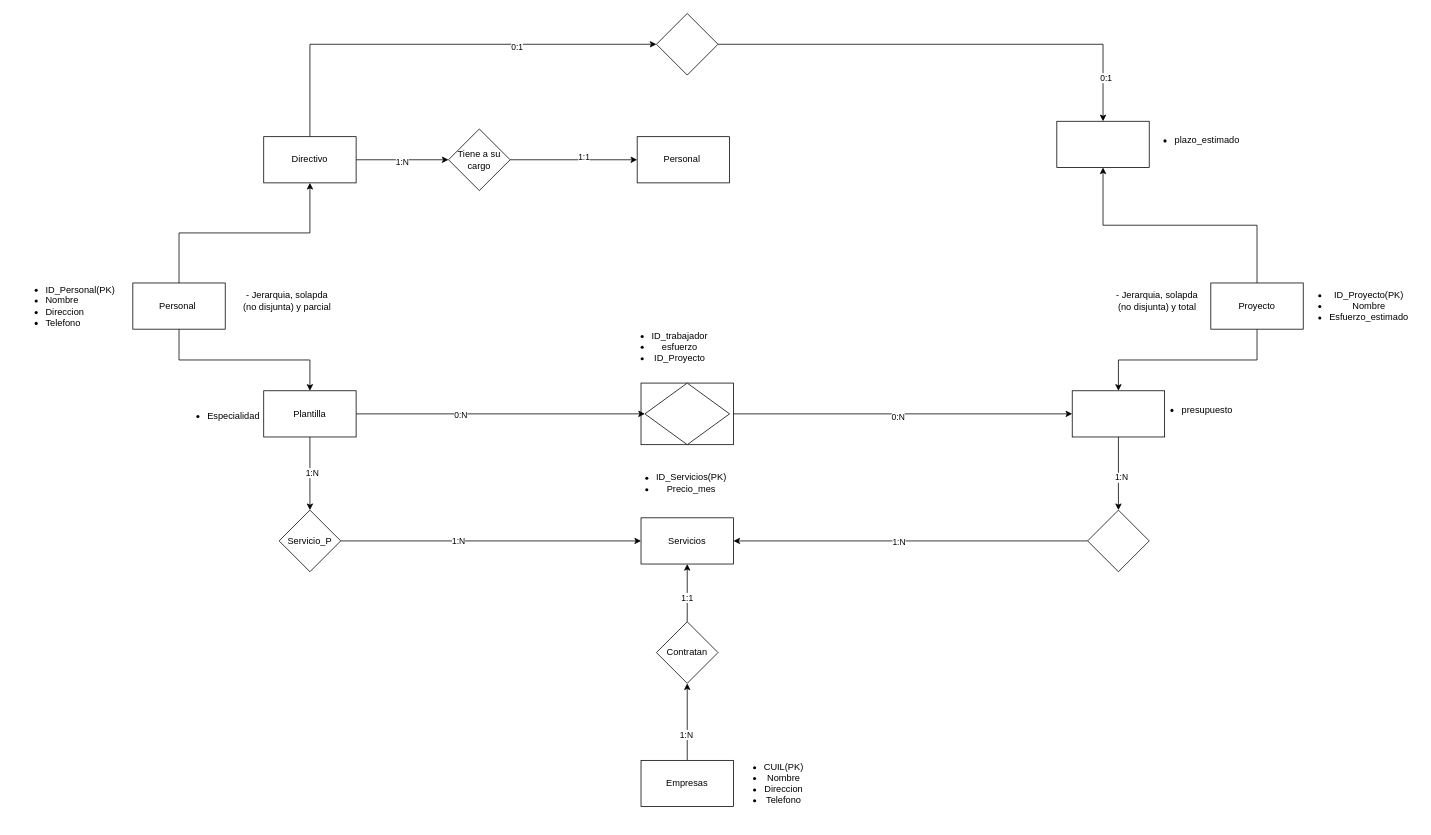
This 1431x835 diagram has some shape labels left out. The box of each missing label's shape, as (x1, y1, x2, y2) in pixels:
Desarrollo: (1071, 390, 1165, 437)
Estrategico: (1056, 121, 1149, 167)
Gestiona: (656, 13, 718, 75)
Participa_en: (644, 382, 730, 445)
Servicio_D: (1087, 509, 1149, 572)
